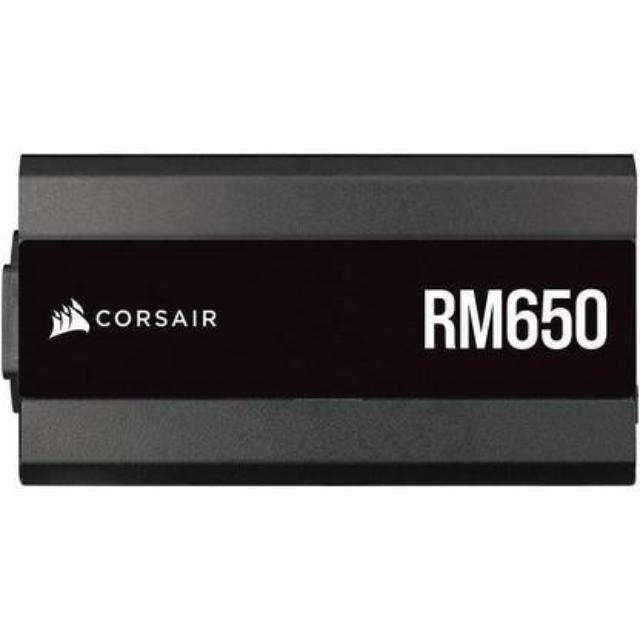PSU: (5, 138, 640, 514)
